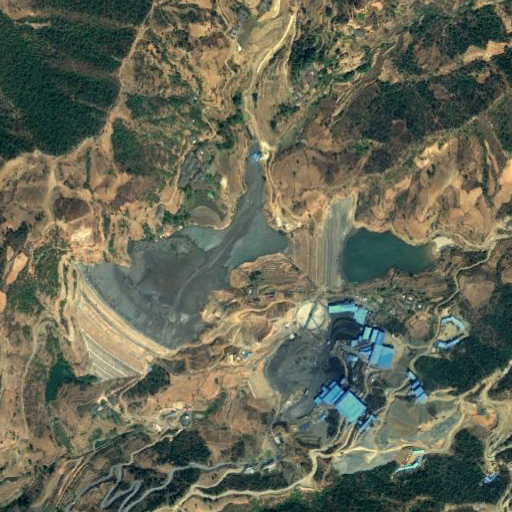tp: (72, 142, 285, 395), (288, 196, 439, 301)
